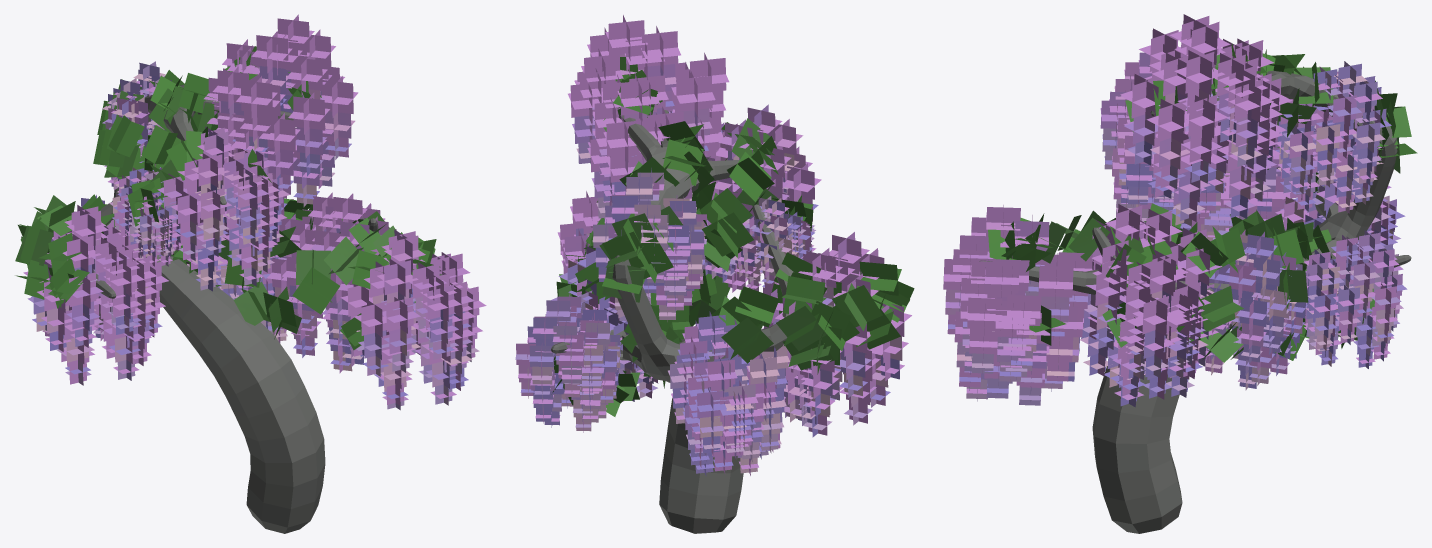
File: wisteria(arvore) (3).fbx
3 views of the same model, side by side, from view 1: azimuth 30°, elevation 25°; view 2: azimuth 150°, elevation 25°; view 3: azimuth 270°, elevation 25° (orthographic). The views are drawn at different scales.
Visible parts, largest first — view 1: arvore; view 2: arvore; view 3: arvore.
Part boxes in pixels (x1,y1,x2,y2): arvore: [15, 14, 486, 533]; arvore: [515, 15, 914, 533]; arvore: [943, 14, 1417, 533].
Size of the model in its own units: 795 by 964 by 735.
Materials: 1 (1 with a texture image).
